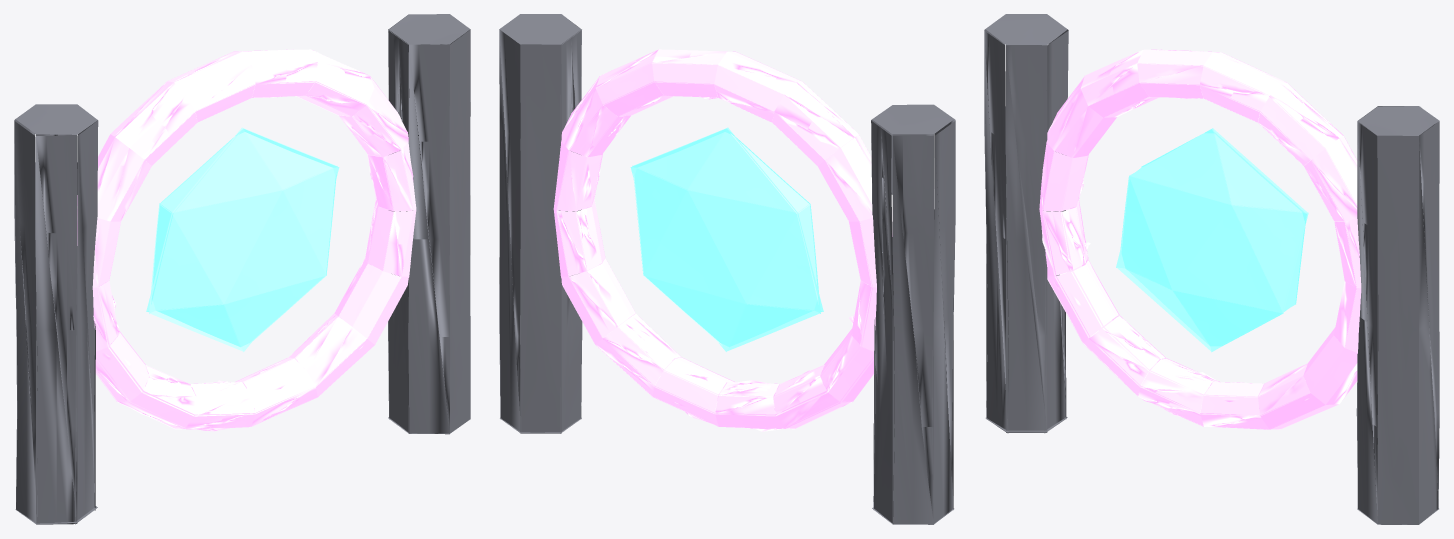
File: portal_gate.glb
3 renders of one model, left to right at view 1: azimuth 30°, elevation 25°; view 2: azimuth 150°, elevation 25°; view 3: azimuth 330°, elevation 25°, orthographic.
Parts seen in each view (by area): view 1: PortalPillarL; view 2: PortalPillarL; view 3: PortalPillarL.
Boxes of the visible parts, box(x1,y1,x2,y2) form: PortalPillarL: box(14, 14, 470, 524); PortalPillarL: box(499, 14, 955, 524); PortalPillarL: box(984, 14, 1439, 524).
Size of the model in its own units: 3.04 by 2.77 by 0.511.
